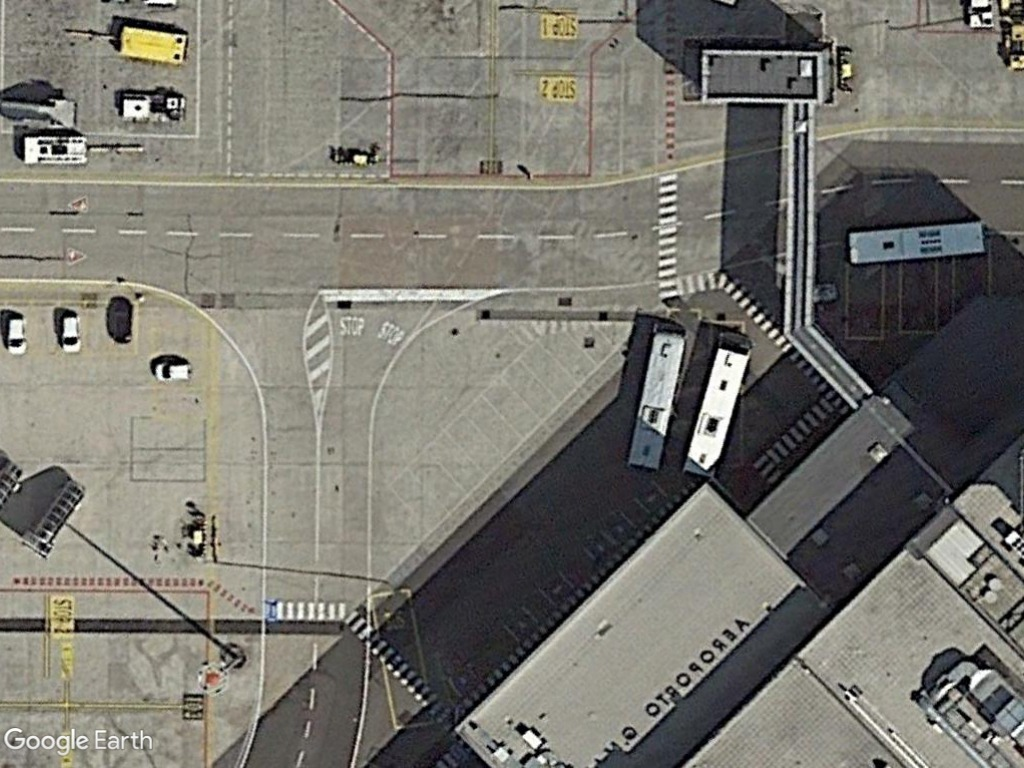bus: (680, 331, 758, 478), (622, 322, 687, 473), (844, 215, 989, 268)
other: (115, 20, 191, 67), (118, 88, 190, 128)
pushbacktruck: (20, 131, 90, 168)
stairtruck: (15, 474, 86, 561)
van: (4, 314, 31, 358), (150, 359, 196, 384), (59, 312, 84, 357)
